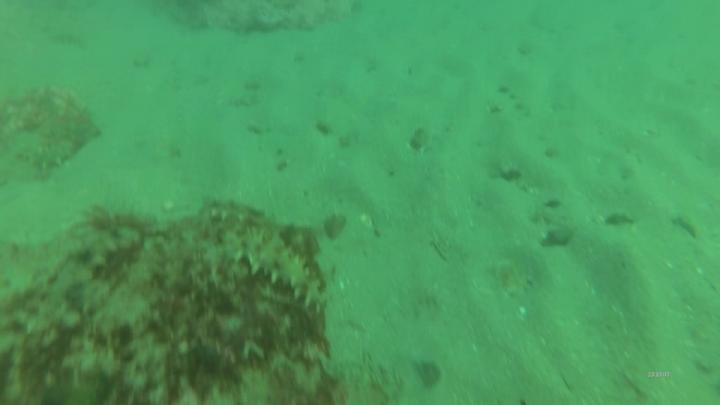holothurian: (240, 227, 331, 316)
